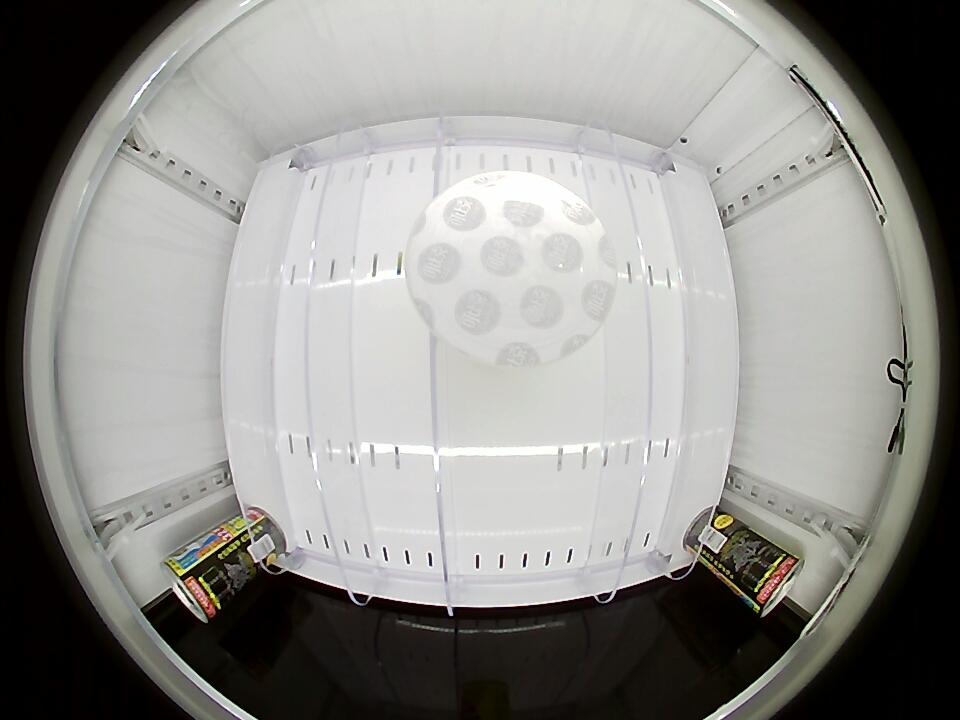kebike: (402, 168, 618, 371)
yezhi: (162, 548, 226, 623), (745, 547, 803, 618)
